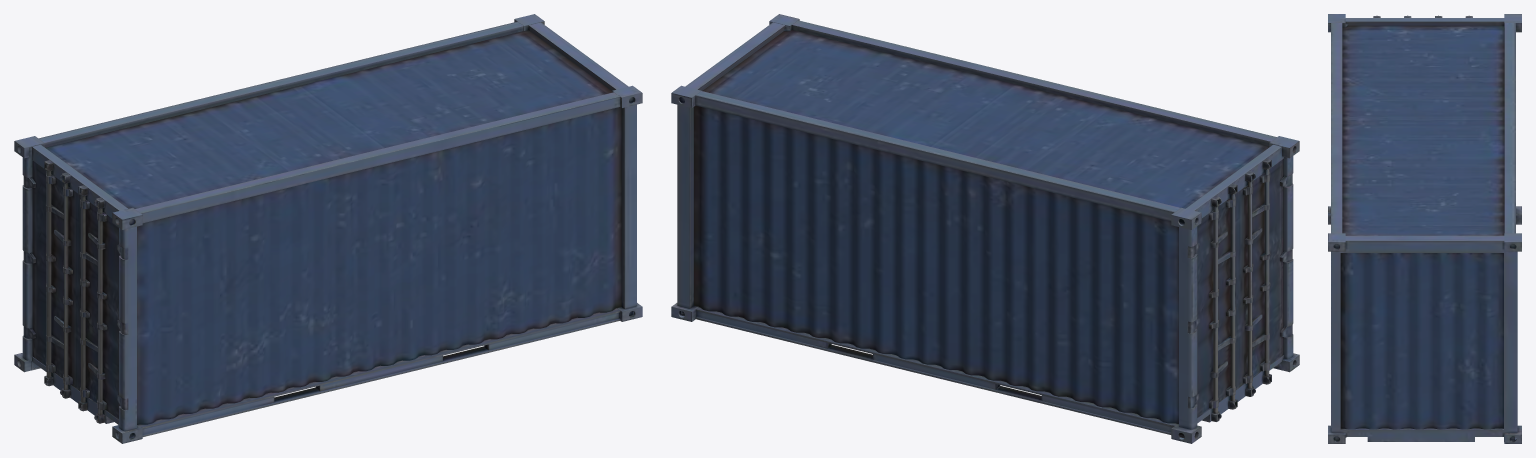
The model's file is shipping-container--3.gltf.
3 renders of one model, left to right at view 1: azimuth 30°, elevation 25°; view 2: azimuth 150°, elevation 25°; view 3: azimuth 270°, elevation 25°, orthographic. The views are drawn at different scales.
Visible parts, largest first — view 1: Cylinder.023; view 2: Cylinder.023; view 3: Cylinder.023.
Boxes of the visible parts, bbox=[...] form: Cylinder.023: bbox=[14, 14, 642, 443]; Cylinder.023: bbox=[671, 14, 1299, 443]; Cylinder.023: bbox=[1328, 14, 1521, 443].
Size of the model in its own units: 6.32 by 2.6 by 2.27.
Materials: 1 (1 with a texture image).
